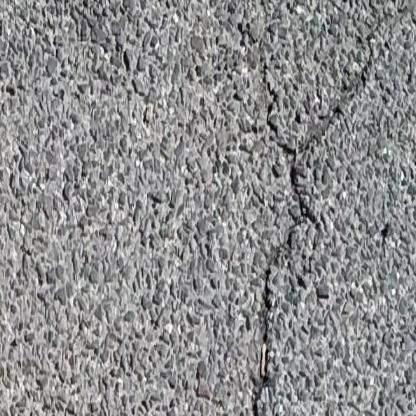Cracks: (259, 75, 310, 257), (249, 267, 276, 416)
